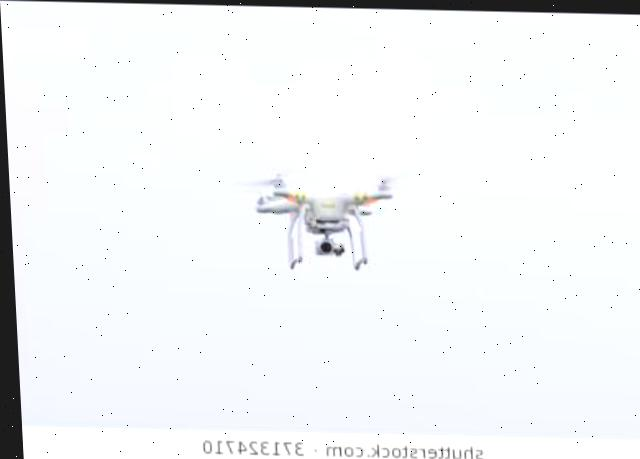drone: (223, 141, 417, 304)
